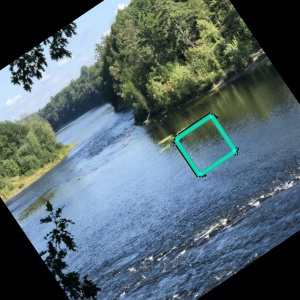square: (166, 110, 245, 181)
